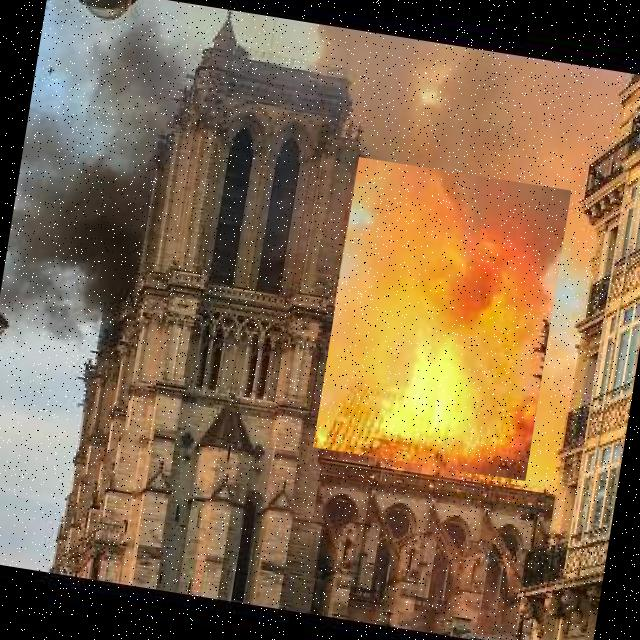fire: (313, 157, 571, 481)
